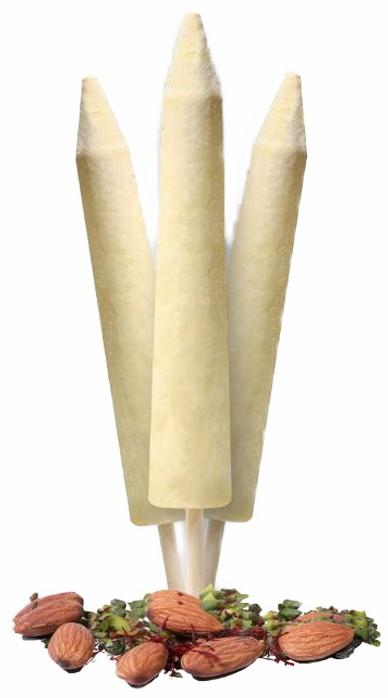Kulfi: (193, 69, 315, 524), (73, 72, 184, 530), (147, 15, 237, 524)
